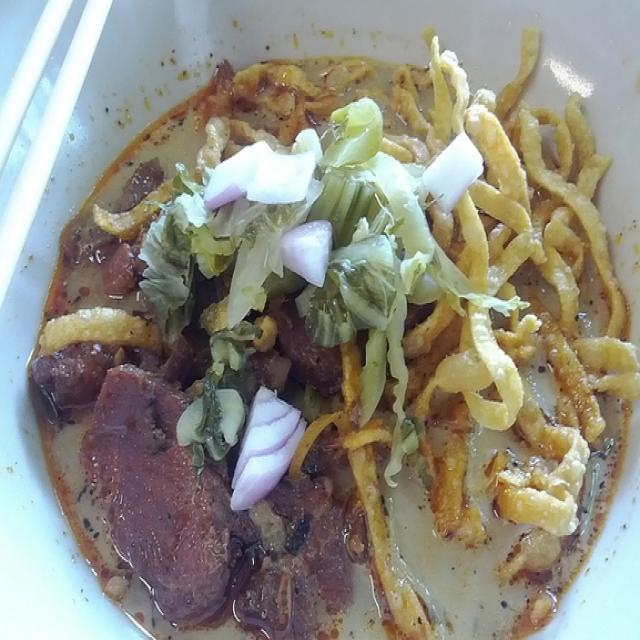面条主食: (38, 44, 621, 628)
